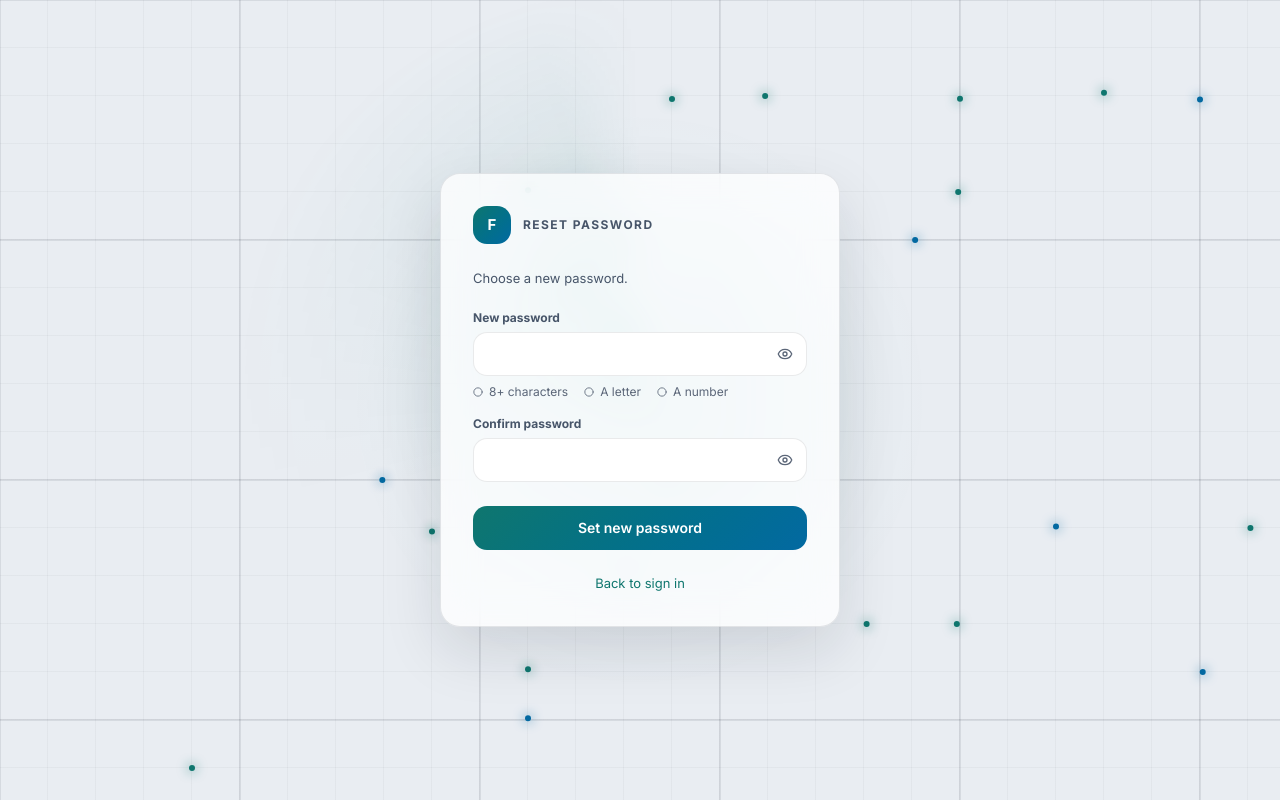
Test case: F02-T4: reset password › success → /login with the "password updated" notice
Type "abcd1234" into the password field labelled "New password" at (640, 354), box [473,332,807,376]
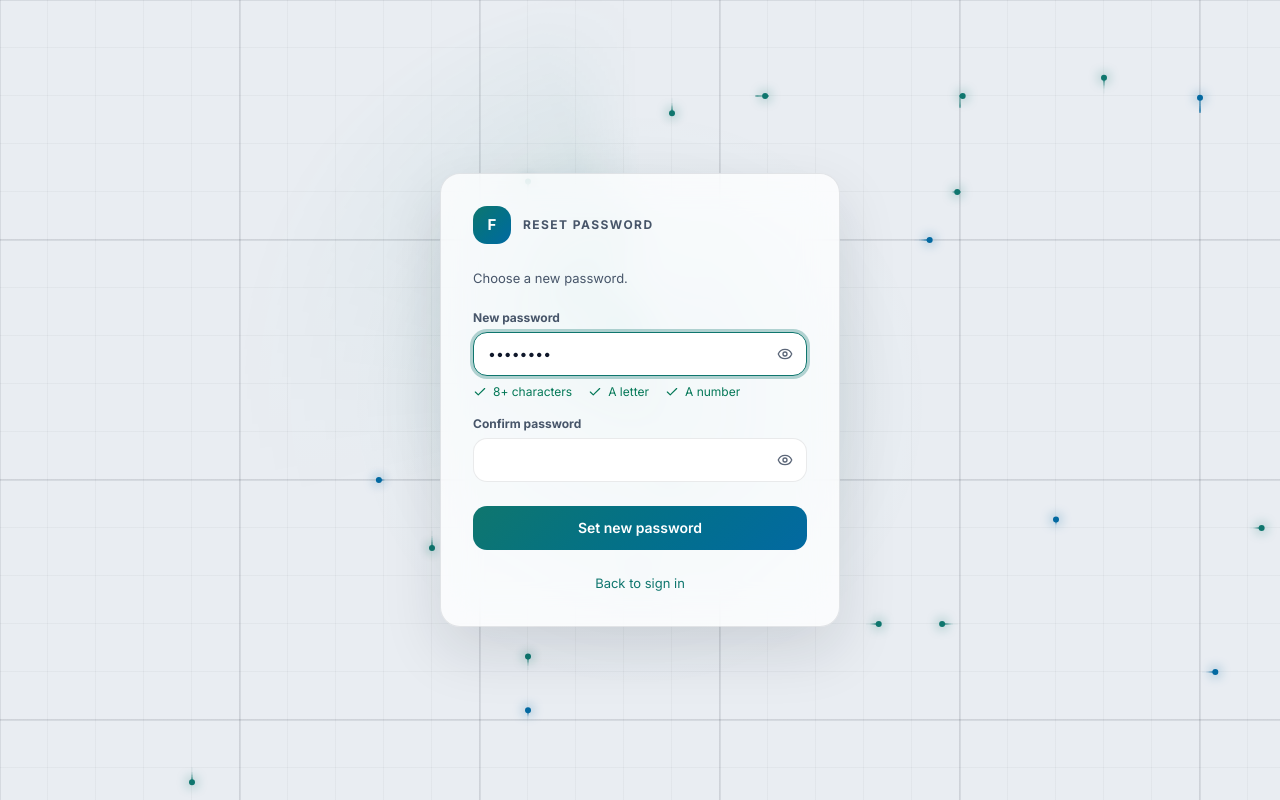
Type "abcd1234" into the password field labelled "Confirm password" at (640, 460), box [473,438,807,482]
Then press Enter
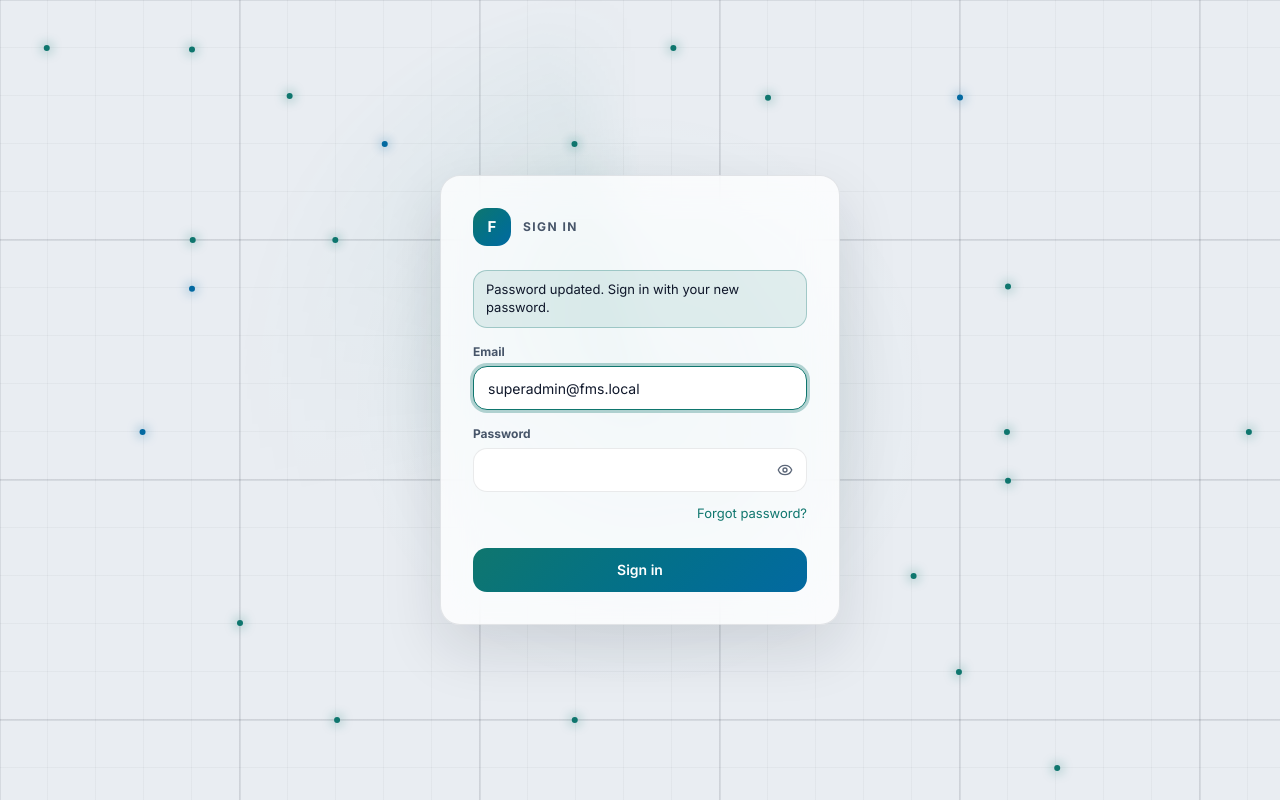
Check: the text "Password updated. Sign in with your new password." is shown, box [473,270,807,328]
